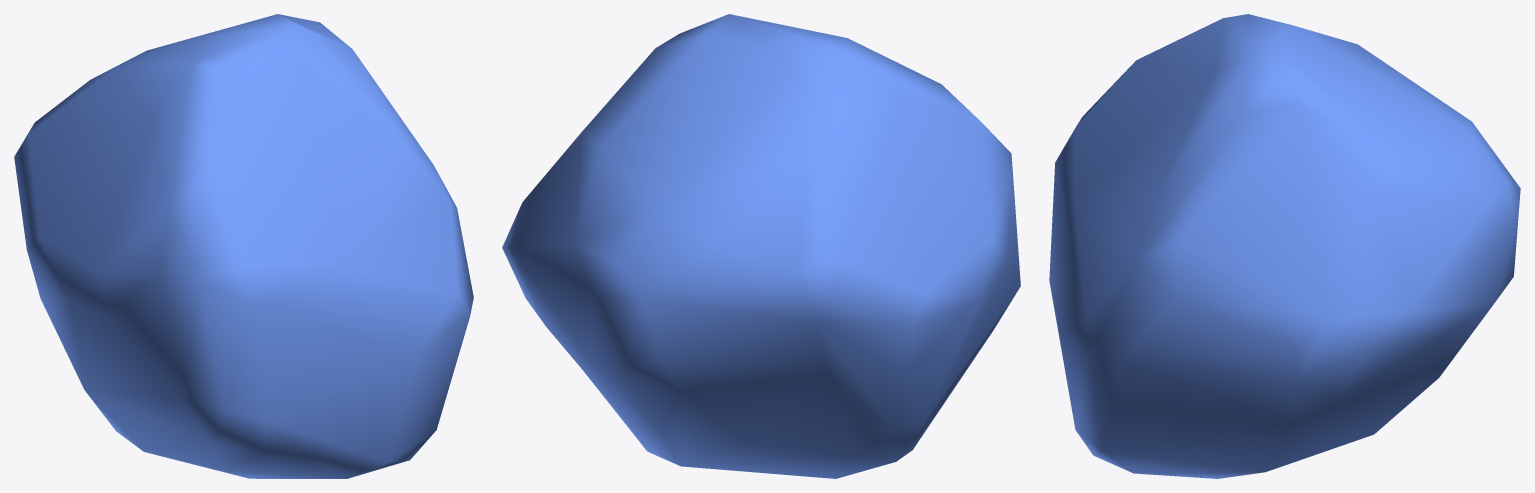
The model's file is SM_Env_Nature_Rock_01.obj.
The picture shows the model from 3 angles, left to right: view 1: azimuth 30°, elevation 25°; view 2: azimuth 150°, elevation 25°; view 3: azimuth 270°, elevation 25°; orthographic projection. The views are drawn at different scales.
Visible parts, largest first — view 1: SM_Env_Nature_Rock_01_Mat_GradientRock; view 2: SM_Env_Nature_Rock_01_Mat_GradientRock; view 3: SM_Env_Nature_Rock_01_Mat_GradientRock.
Part boxes in pixels (x1=…): SM_Env_Nature_Rock_01_Mat_GradientRock: x1=14, y1=14, x2=473, y2=478; SM_Env_Nature_Rock_01_Mat_GradientRock: x1=502, y1=14, x2=1020, y2=478; SM_Env_Nature_Rock_01_Mat_GradientRock: x1=1049, y1=14, x2=1520, y2=478.
Bounding box in the file's own units: 0.7185 × 0.6955 × 0.7486.
1 material, 1 textured.
